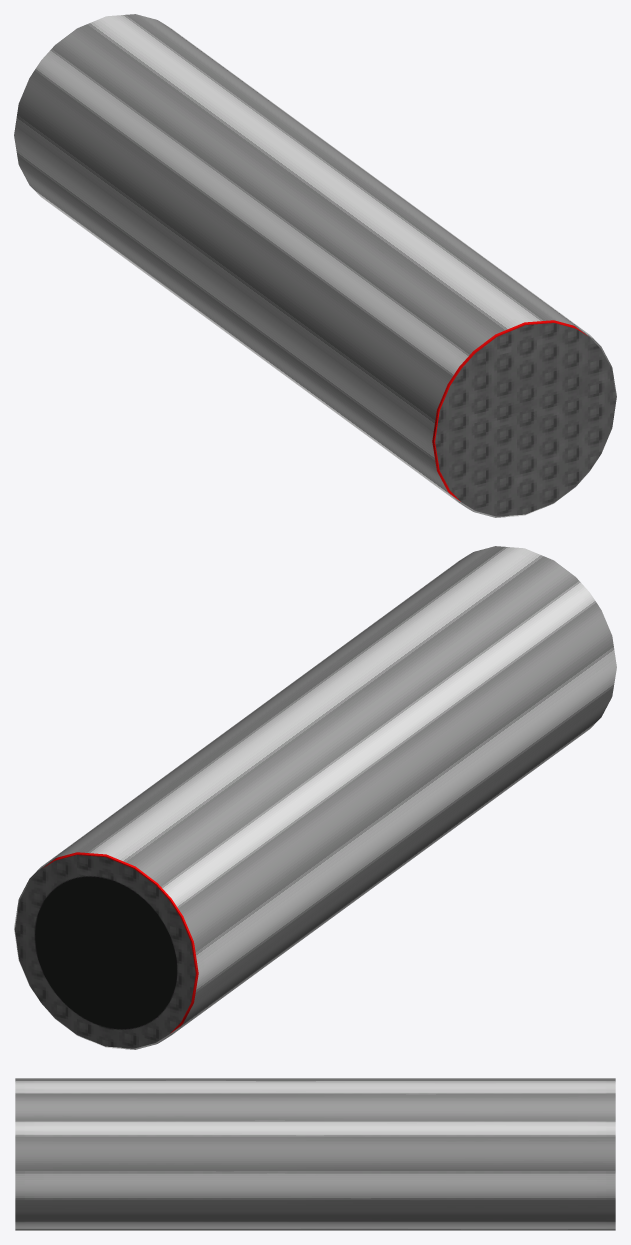
File: laser.obj
3 renders of one model, top to bottom at view 1: azimuth 30°, elevation 25°; view 2: azimuth 150°, elevation 25°; view 3: azimuth 270°, elevation 25°, orthographic. The views are drawn at different scales.
Visible parts, largest first — view 1: Laser3, Laser4, Laser7, Laser1; view 2: Laser3, Laser4, Laser6, Laser1; view 3: Laser5, Laser4, Laser2.
Boxes of the visible parts, x1=… form: Laser3: x1=14, y1=60, x2=458, y2=502; Laser4: x1=41, y1=14, x2=587, y2=366; Laser7: x1=435, y1=323, x2=616, y2=516; Laser1: x1=432, y1=320, x2=587, y2=501; Laser3: x1=172, y1=592, x2=616, y2=1034; Laser4: x1=43, y1=546, x2=589, y2=898; Laser6: x1=14, y1=855, x2=195, y2=1048; Laser1: x1=43, y1=852, x2=198, y2=1033; Laser5: x1=15, y1=1128, x2=615, y2=1226; Laser4: x1=15, y1=1078, x2=615, y2=1128; Laser2: x1=15, y1=1226, x2=615, y2=1230.
Bounding box in the file's own units: 2.04 × 2.04 × 8.04.
4 materials, 3 textured.
